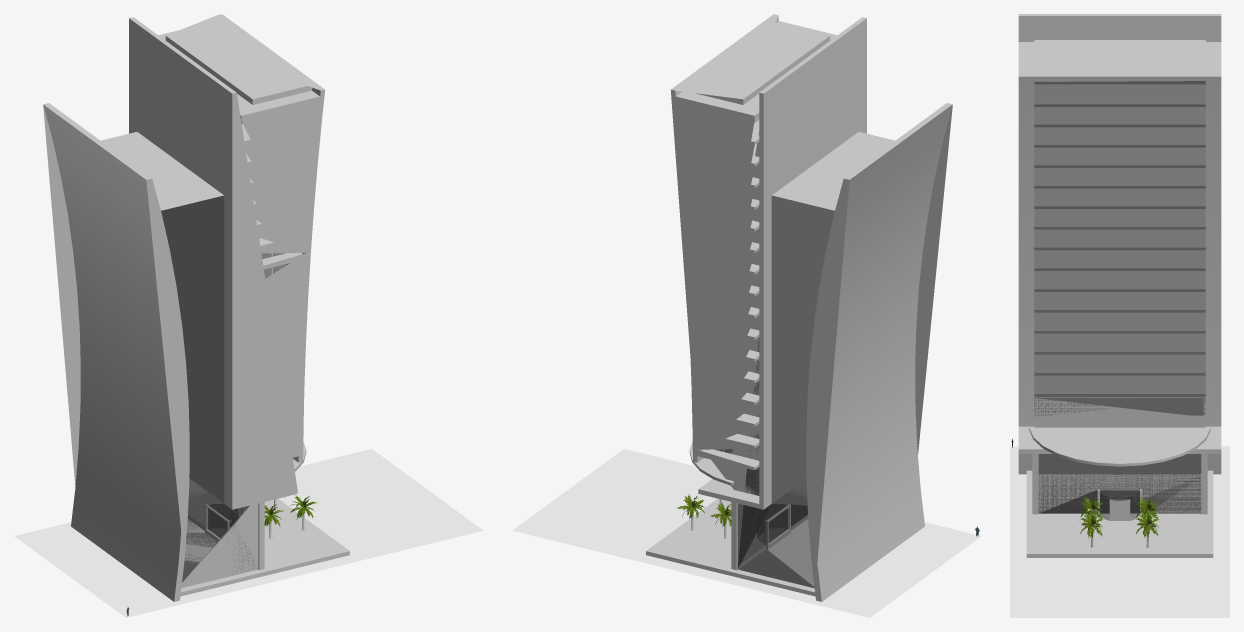
Rendered from modern_building.obj.
3 views of the same model, side by side, from view 1: azimuth 30°, elevation 25°; view 2: azimuth 150°, elevation 25°; view 3: azimuth 270°, elevation 25° (orthographic).
Parts seen in each view (by area): view 1: Mesh114 Skyscraper_1 Model; view 2: Mesh114 Skyscraper_1 Model; view 3: Mesh114 Skyscraper_1 Model.
Boxes of the visible parts, left/top/right/bottom form: Mesh114 Skyscraper_1 Model: left=14, top=14, right=483, bottom=617; Mesh114 Skyscraper_1 Model: left=512, top=14, right=981, bottom=617; Mesh114 Skyscraper_1 Model: left=1010, top=14, right=1229, bottom=617.
Bounding box in the file's own units: 2509 × 3312 × 1359.
